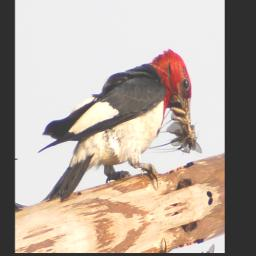Woodpecker: (29, 43, 204, 224)
